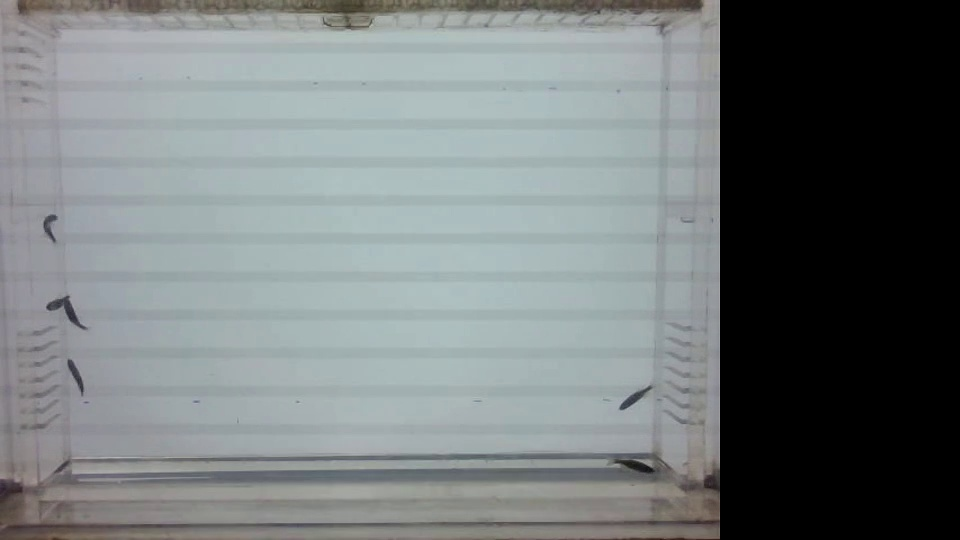fish: (612, 381, 656, 416), (605, 452, 658, 480), (64, 354, 88, 400), (61, 300, 94, 332), (32, 214, 65, 244), (41, 288, 72, 317)
